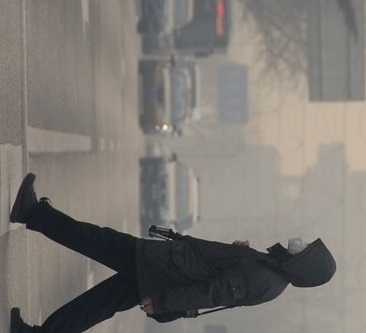person: (2, 165, 340, 333)
